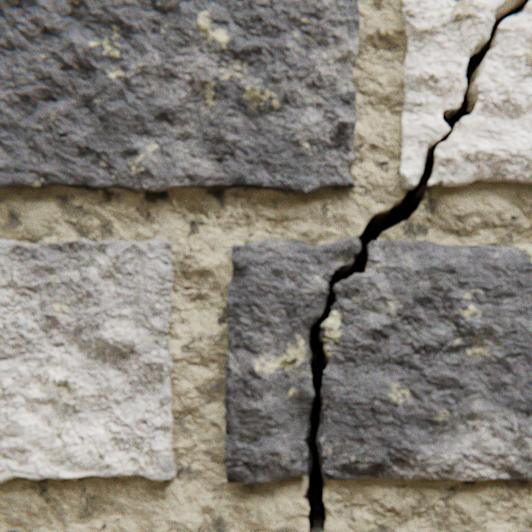brick: (0, 0, 359, 195), (0, 239, 176, 482)
broken_brick: (317, 240, 531, 479), (225, 237, 360, 482), (400, 0, 512, 188), (426, 0, 531, 187)
crack: (304, 0, 529, 531)
